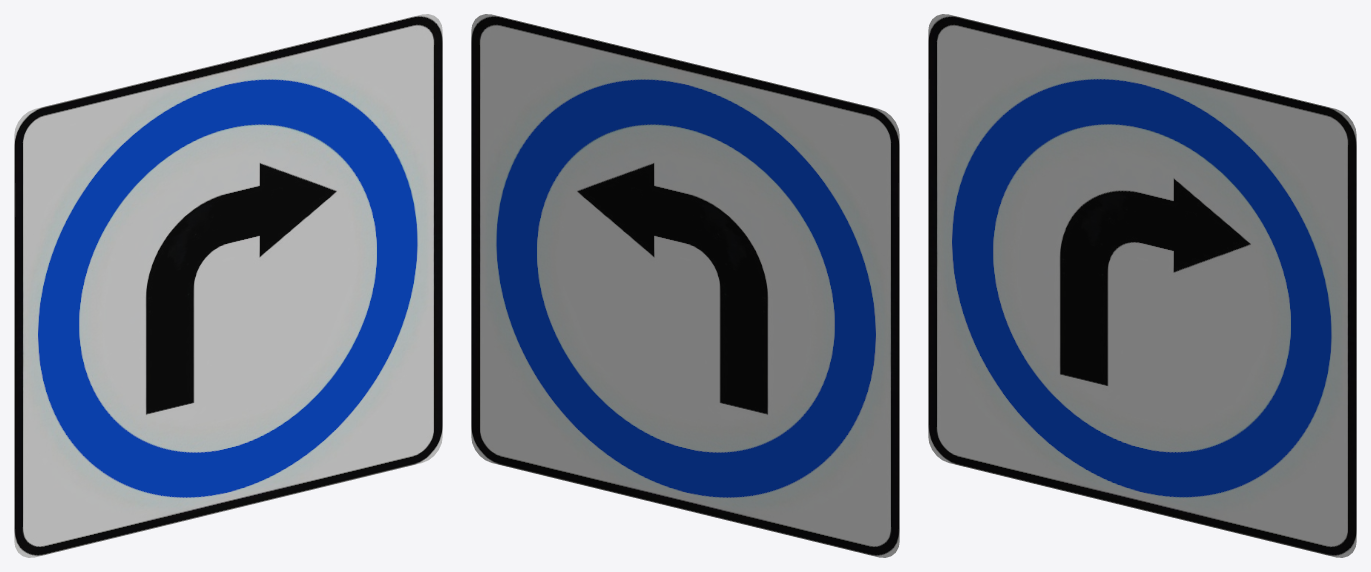
Rendered from azul_right.gltf.
The picture shows the model from 3 angles, left to right: view 1: azimuth 30°, elevation 25°; view 2: azimuth 150°, elevation 25°; view 3: azimuth 330°, elevation 25°; orthographic projection.
Visible parts, largest first — view 1: azul_right; view 2: azul_right; view 3: azul_right.
Part boxes in pixels (x1=…): azul_right: x1=14, y1=14, x2=442, y2=557; azul_right: x1=471, y1=14, x2=899, y2=557; azul_right: x1=928, y1=14, x2=1356, y2=557.
Bounding box in the file's own units: 1.51 × 1.51 × 3.36e-16.
Materials: 1 (1 with a texture image).
